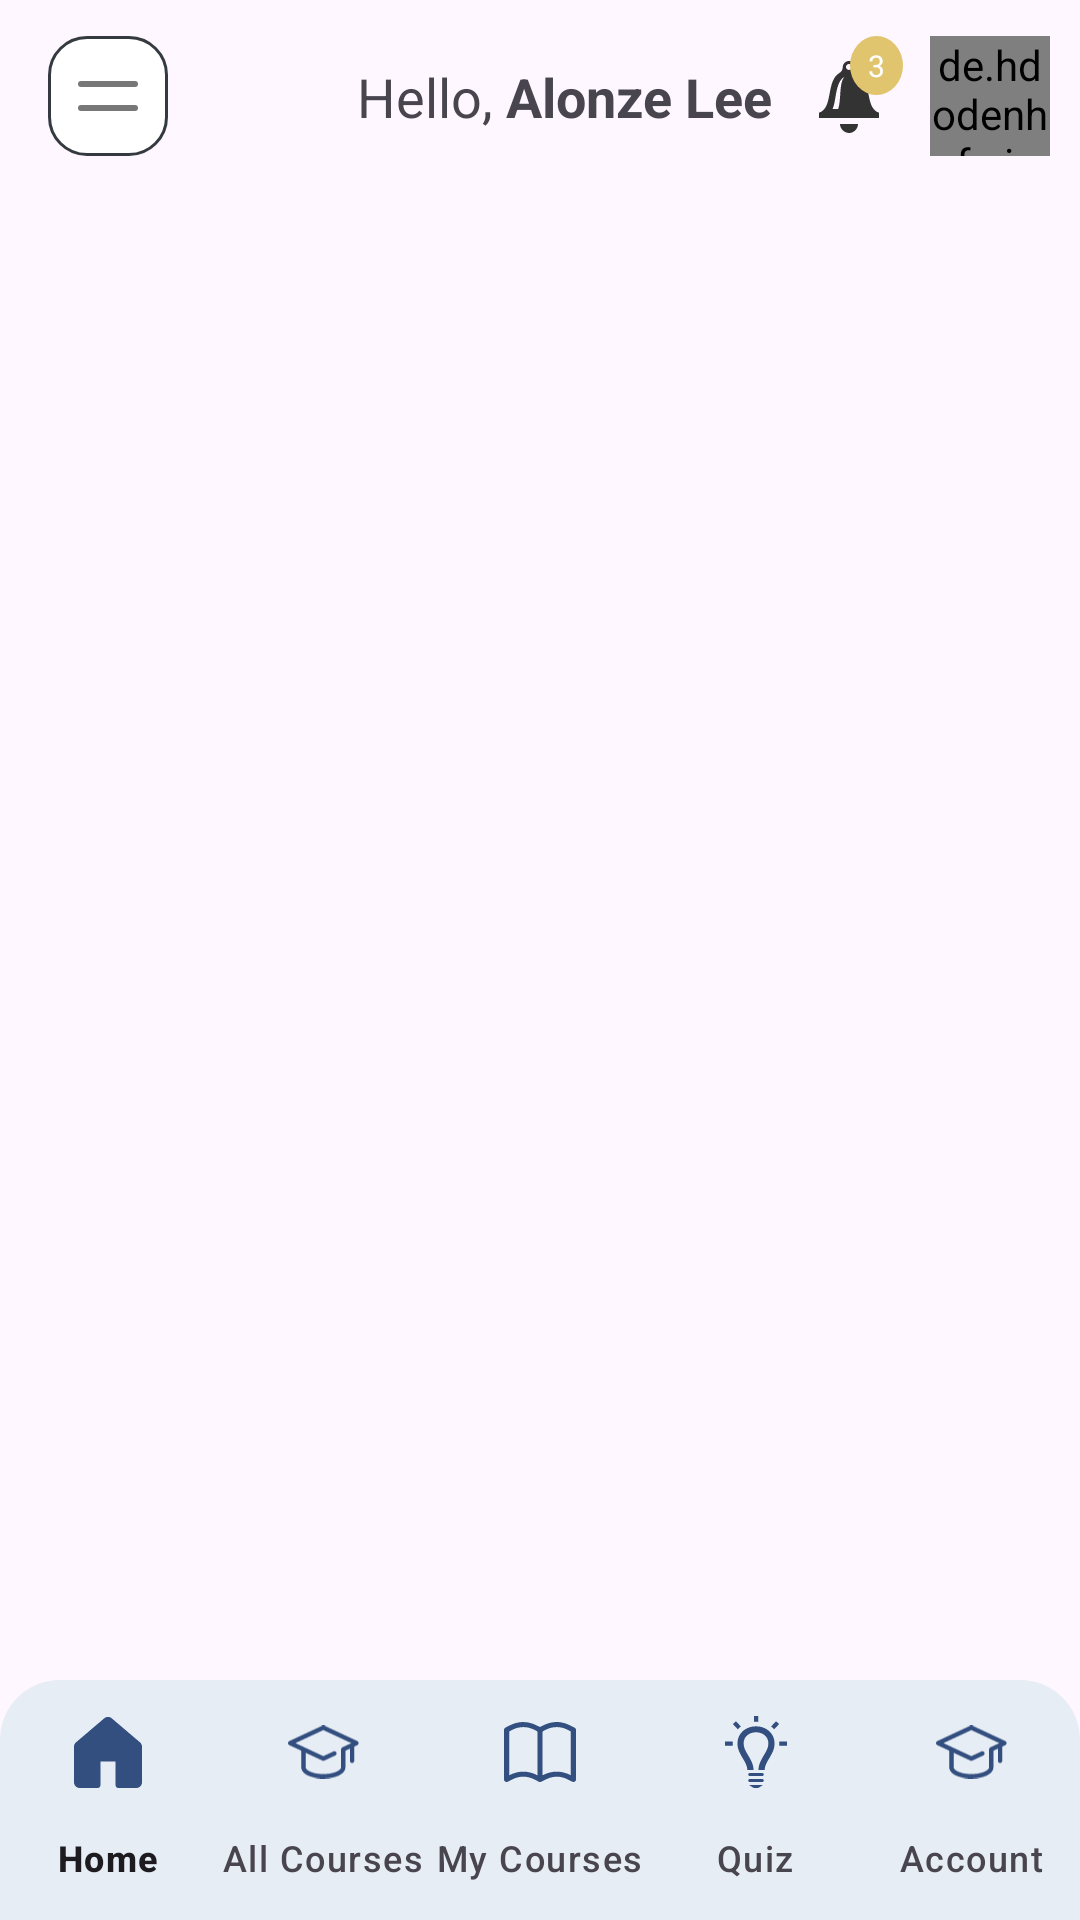

Locate icon controls on the screen. Image size 1080px×1920px, boxes as (x1, y1, x2, y2).
drawer: (48, 36, 168, 156)
notification bell: (819, 56, 885, 133)
